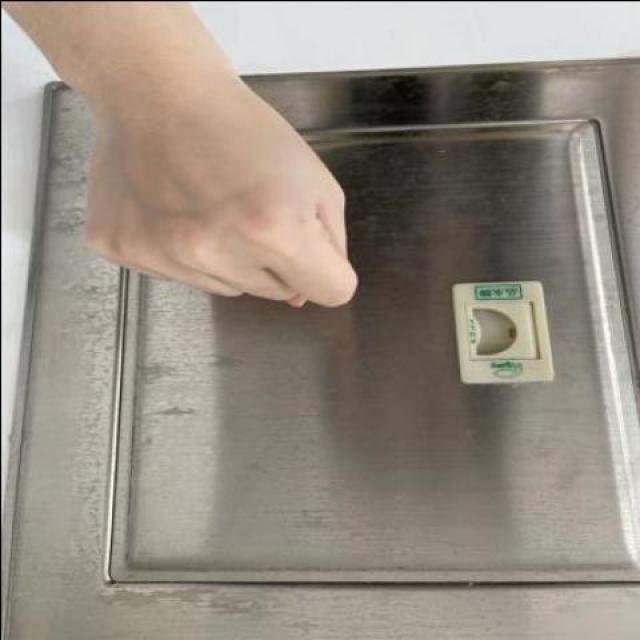fist: (74, 86, 374, 318)
